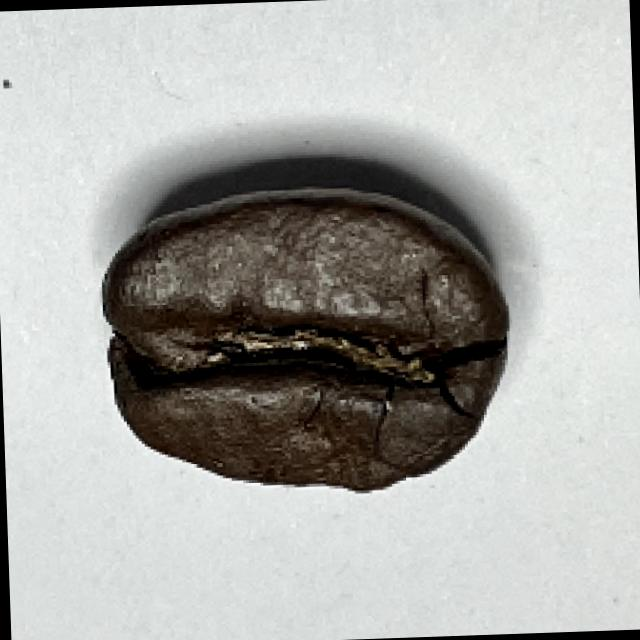bean: (91, 180, 518, 499)
